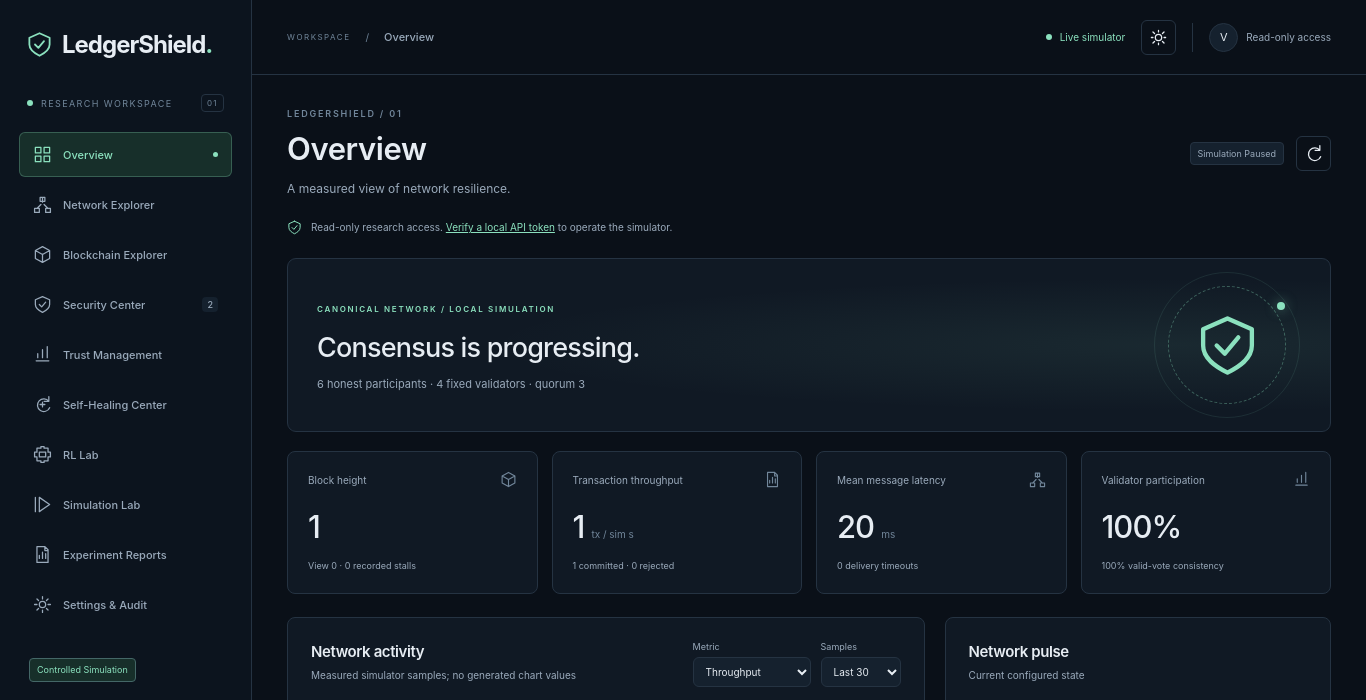
research dashboard workflows › navigates to Blockchain Explorer with actual resource loading
expect the heading "Consensus is progressing." is shown: met, box [317,329,640,366]
Step 1. Click the link "Blockchain Explorer" → [100, 254], box [33,245,167,264]
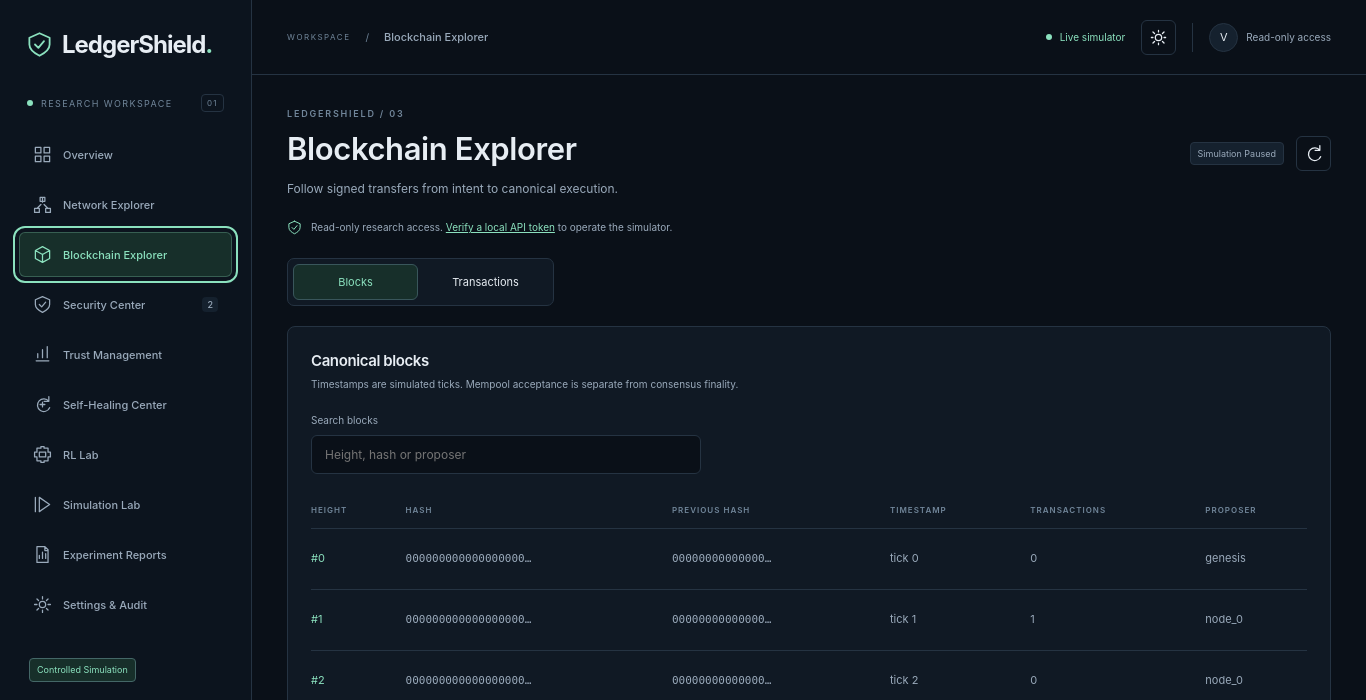
expect the heading "Blockchain Explorer" is shown: met, box [287,130,618,167]
